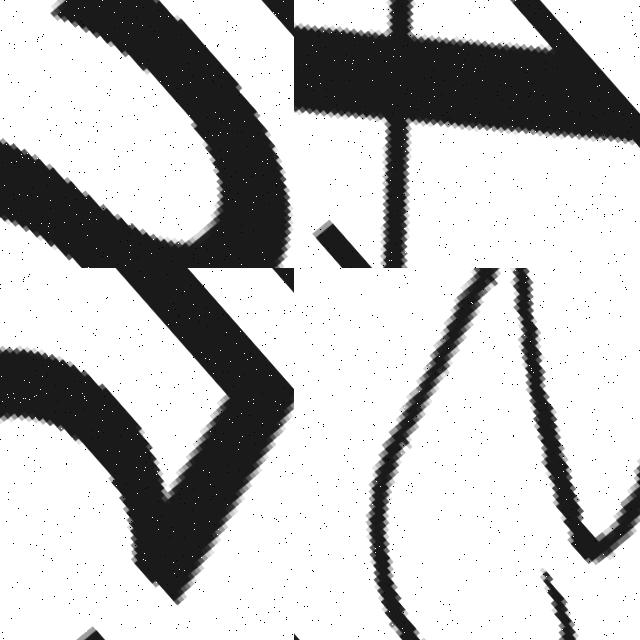5: (0, 268, 294, 640)
S: (0, 0, 294, 268)
X: (294, 0, 640, 268)
Y: (294, 268, 640, 640)
